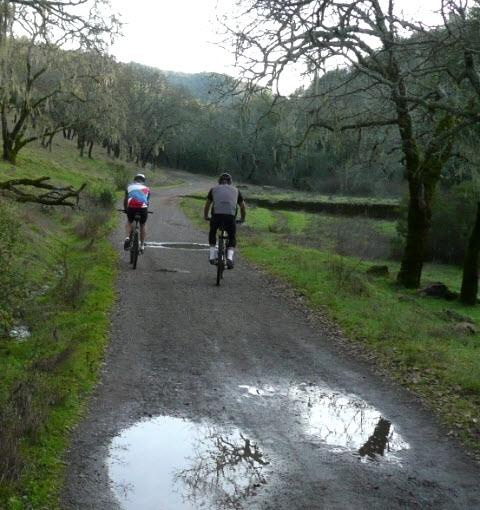non-vehicle: (204, 216, 243, 286), (116, 209, 153, 269)
